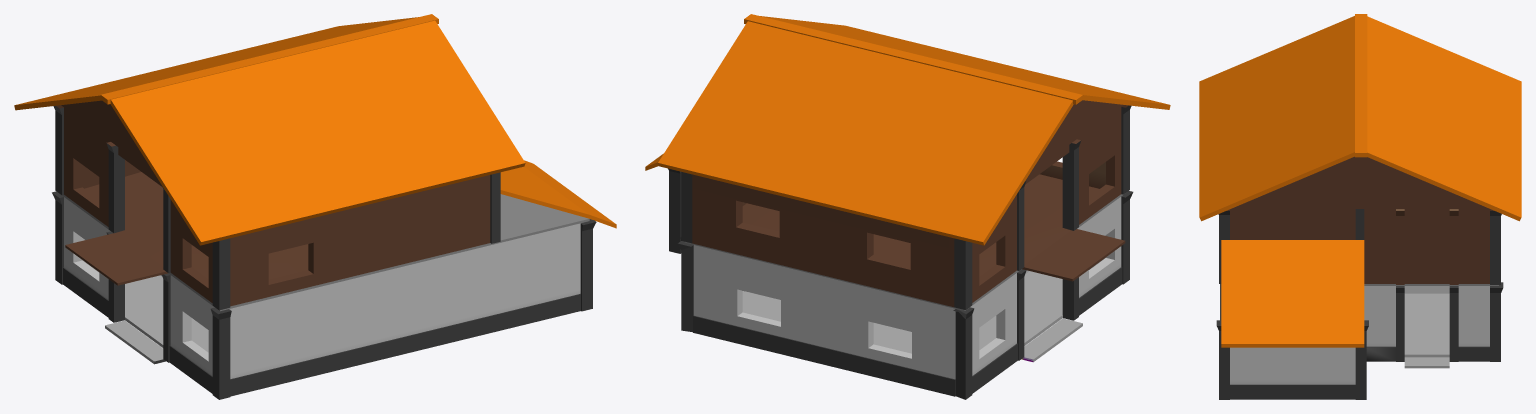
The model's file is SM_lao_House_Two_Floor.fbx.
3 renders of one model, left to right at view 1: azimuth 30°, elevation 25°; view 2: azimuth 150°, elevation 25°; view 3: azimuth 270°, elevation 25°, orthographic. The views are drawn at different scales.
Visible parts, largest first — view 1: Roof, Main_Floor_1, Main_Floor_2; view 2: Roof, Main_Floor_1, Main_Floor_2; view 3: Roof, Main_Floor_1, Main_Floor_2.
Boxes of the visible parts, left/top/right/bottom form: Roof: left=14, top=14, right=525, bottom=245; Main_Floor_1: left=52, top=160, right=616, bottom=399; Main_Floor_2: left=53, top=105, right=589, bottom=311; Roof: left=658, top=14, right=1170, bottom=245; Main_Floor_1: left=645, top=153, right=1133, bottom=399; Main_Floor_2: left=681, top=105, right=1131, bottom=310; Roof: left=1199, top=14, right=1521, bottom=221; Main_Floor_1: left=1216, top=240, right=1503, bottom=399; Main_Floor_2: left=1218, top=209, right=1501, bottom=285.
Bounding box in the file's own units: 993 × 537 × 719.
